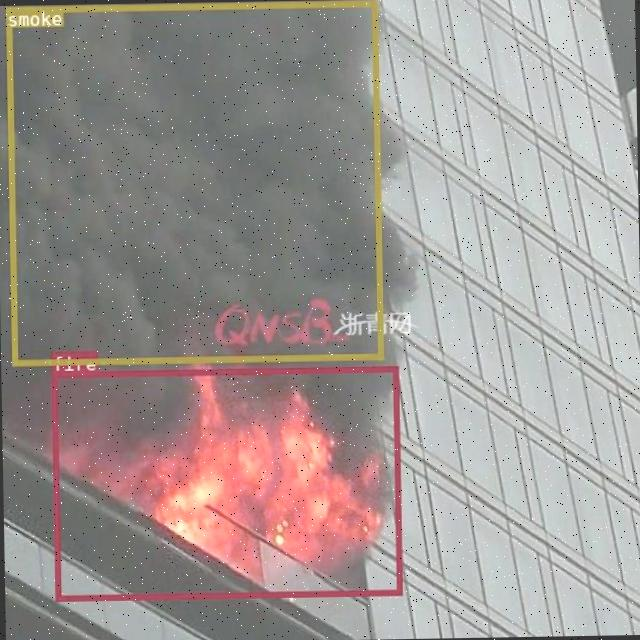fire: (51, 364, 401, 599)
smoke: (5, 0, 382, 363)
